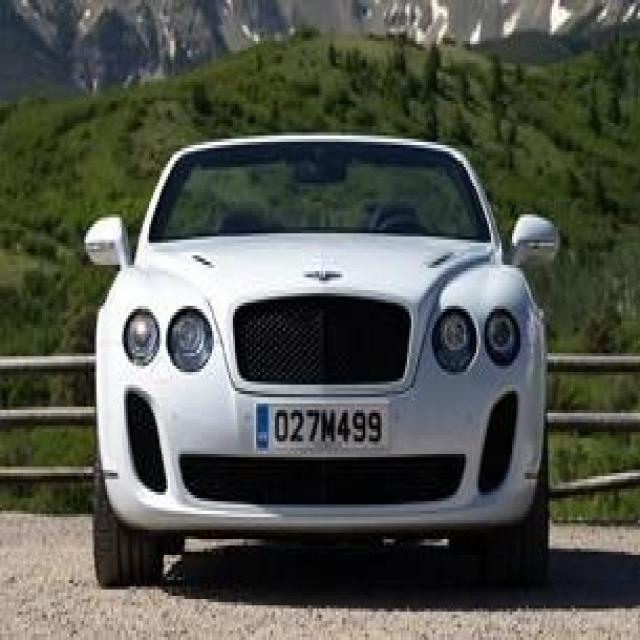Car: (71, 99, 577, 569)
